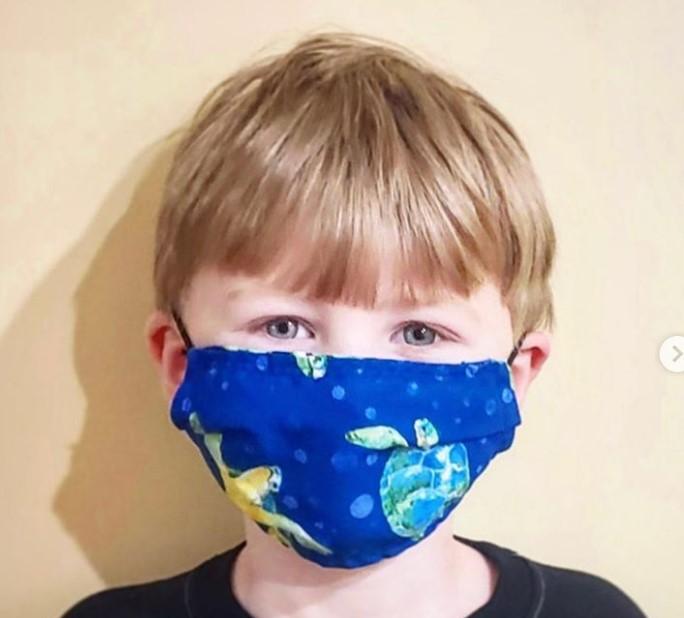face_with_mask: (143, 30, 551, 572)
